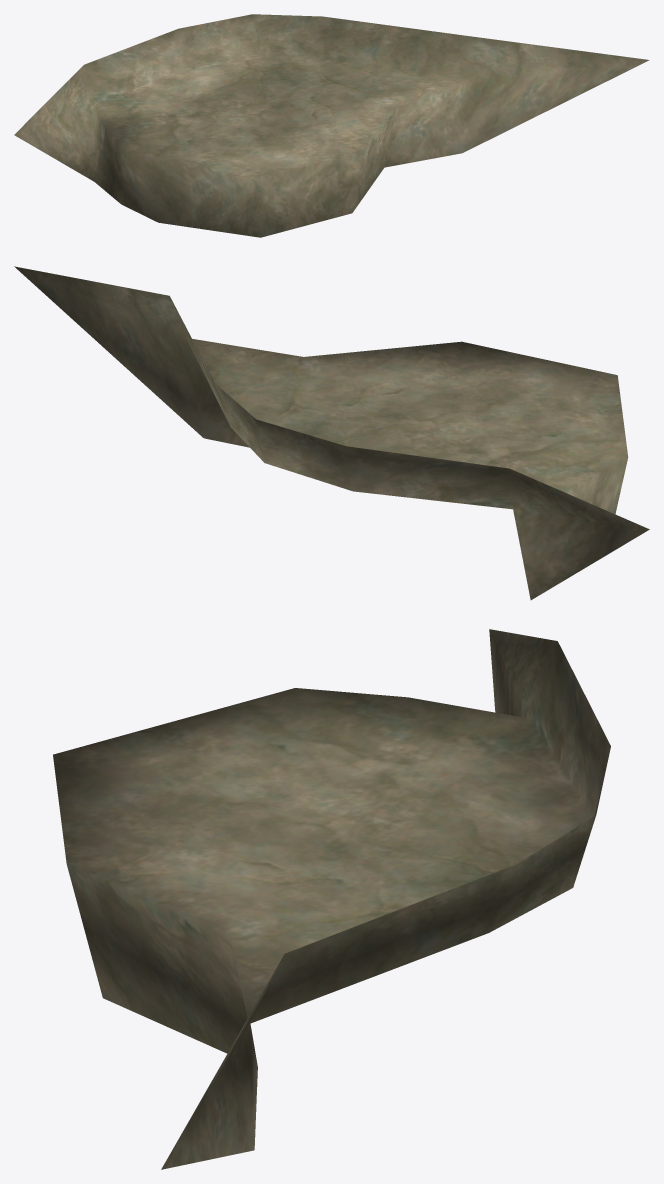
Rendered from EKH_CAVERNS_PS_CA_PLATFORM474635.fbx.
3 renders of one model, top to bottom at view 1: azimuth 30°, elevation 25°; view 2: azimuth 150°, elevation 25°; view 3: azimuth 270°, elevation 25°, orthographic. The views are drawn at different scales.
Parts seen in each view (by area): view 1: EKH_CAVERNS_PS_CA_PLATFORM474635; view 2: EKH_CAVERNS_PS_CA_PLATFORM474635; view 3: EKH_CAVERNS_PS_CA_PLATFORM474635.
Boxes of the visible parts, box(x1,y1,x2,y2) form: EKH_CAVERNS_PS_CA_PLATFORM474635: box(14, 14, 649, 237); EKH_CAVERNS_PS_CA_PLATFORM474635: box(14, 266, 649, 600); EKH_CAVERNS_PS_CA_PLATFORM474635: box(53, 629, 610, 1169).
Size of the model in its own units: 52622 by 9705 by 22962.
1 material, 1 textured.
